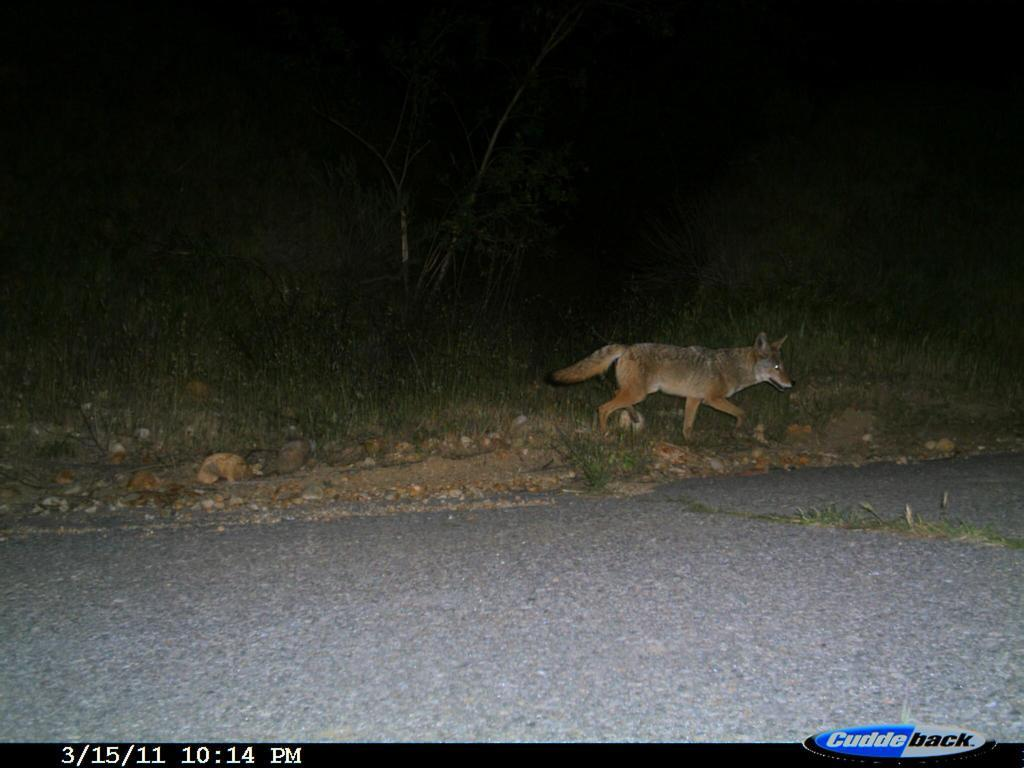coyote: (538, 329, 803, 446)
